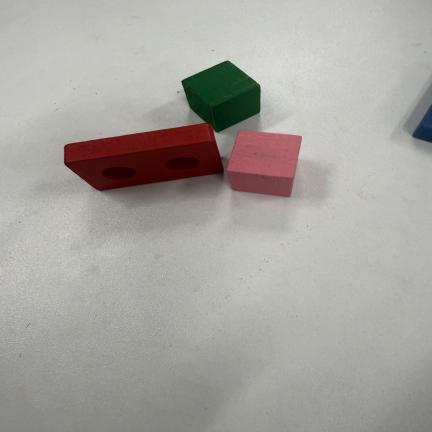BuildingBlocks: (65, 124, 223, 190), (182, 61, 260, 131), (228, 131, 301, 196), (413, 107, 431, 142)
